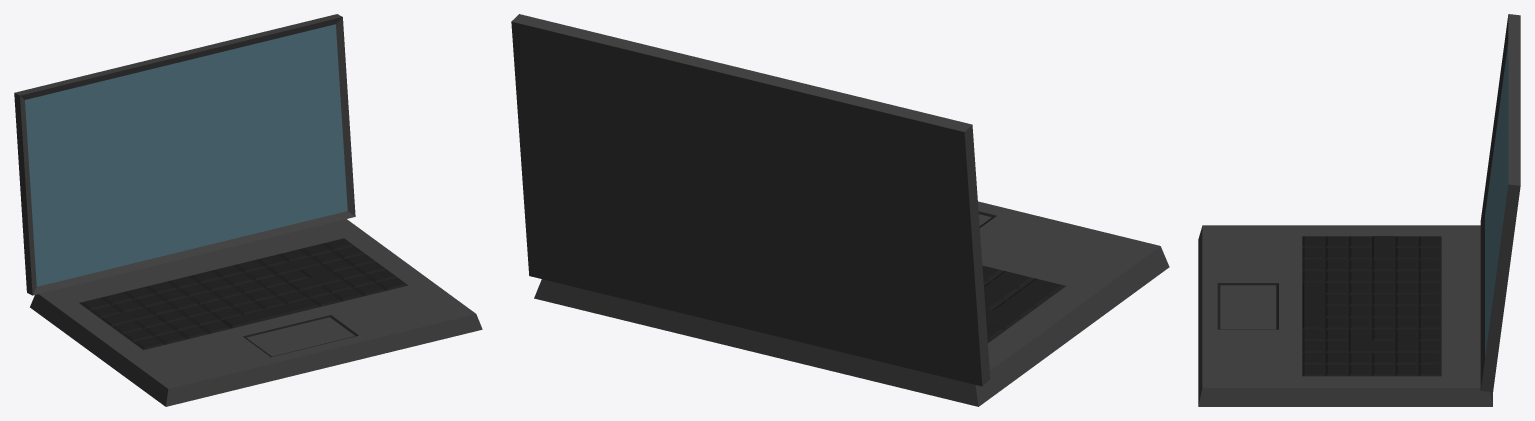
File: Portatil.FBX
3 views of the same model, side by side, from view 1: azimuth 30°, elevation 25°; view 2: azimuth 150°, elevation 25°; view 3: azimuth 270°, elevation 25° (orthographic). The views are drawn at different scales.
Visible parts, largest first — view 1: Portatil; view 2: Portatil; view 3: Portatil.
Part boxes in pixels (bbox=[...]): Portatil: bbox=[14, 14, 482, 406]; Portatil: bbox=[511, 14, 1169, 406]; Portatil: bbox=[1198, 14, 1520, 406].
Bounding box in the file's own units: 1.42 × 0.8727 × 1.14.
